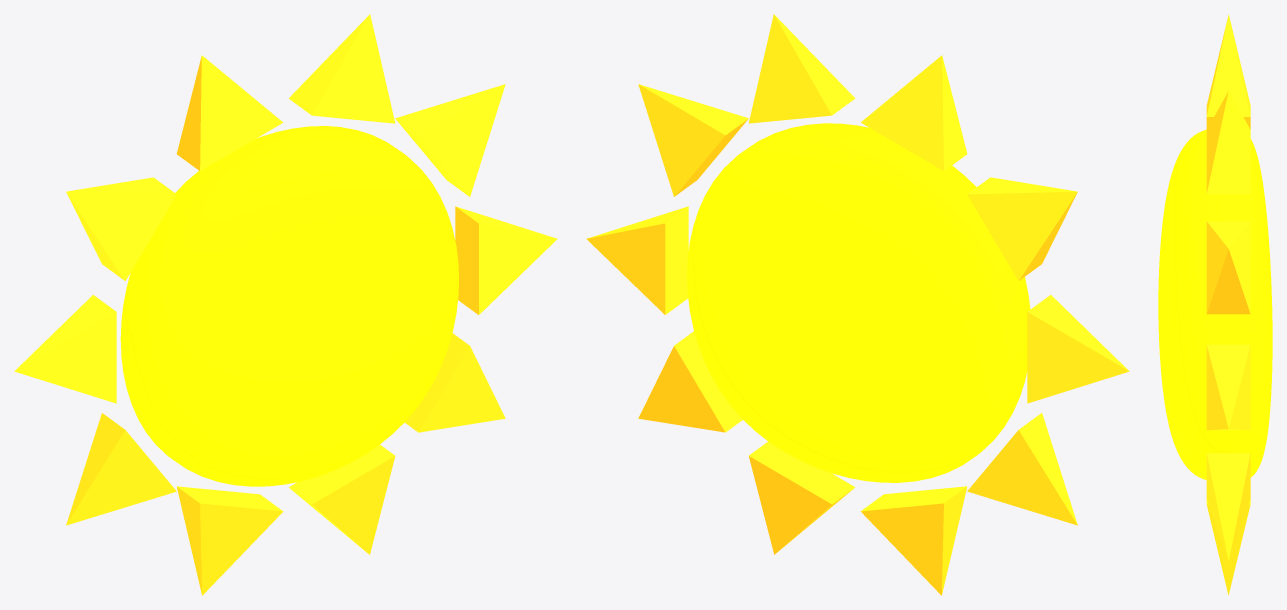
File: clear-day.glb
3 views of the same model, side by side, from view 1: azimuth 30°, elevation 25°; view 2: azimuth 150°, elevation 25°; view 3: azimuth 270°, elevation 25° (orthographic). The views are drawn at different scales.
Visible parts, largest first — view 1: Cube.096, Circle.001; view 2: Cube.096, Circle.001; view 3: Cube.096, Circle.001.
Part boxes in pixels (x1,y1,x2,y2): Cube.096: (120, 126, 458, 486); Circle.001: (14, 14, 557, 595); Cube.096: (687, 123, 1030, 482); Circle.001: (586, 14, 1129, 595); Cube.096: (1158, 129, 1272, 479); Circle.001: (1206, 14, 1250, 595).
Size of the model in its own units: 7.37 by 7.01 by 1.44.
